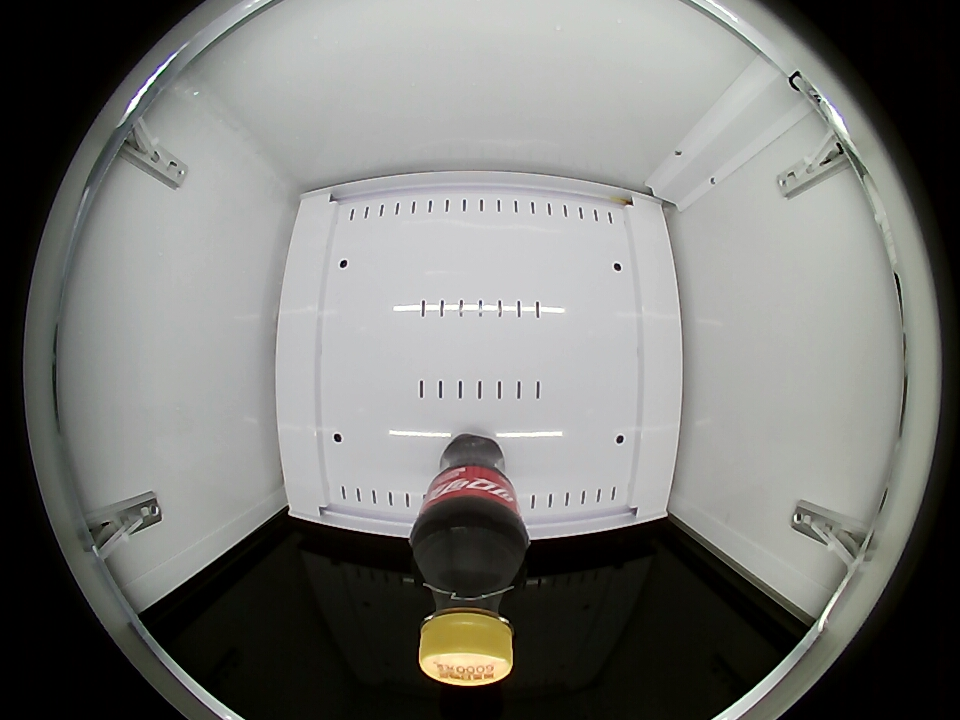kele-b-2: (411, 528, 526, 686)
